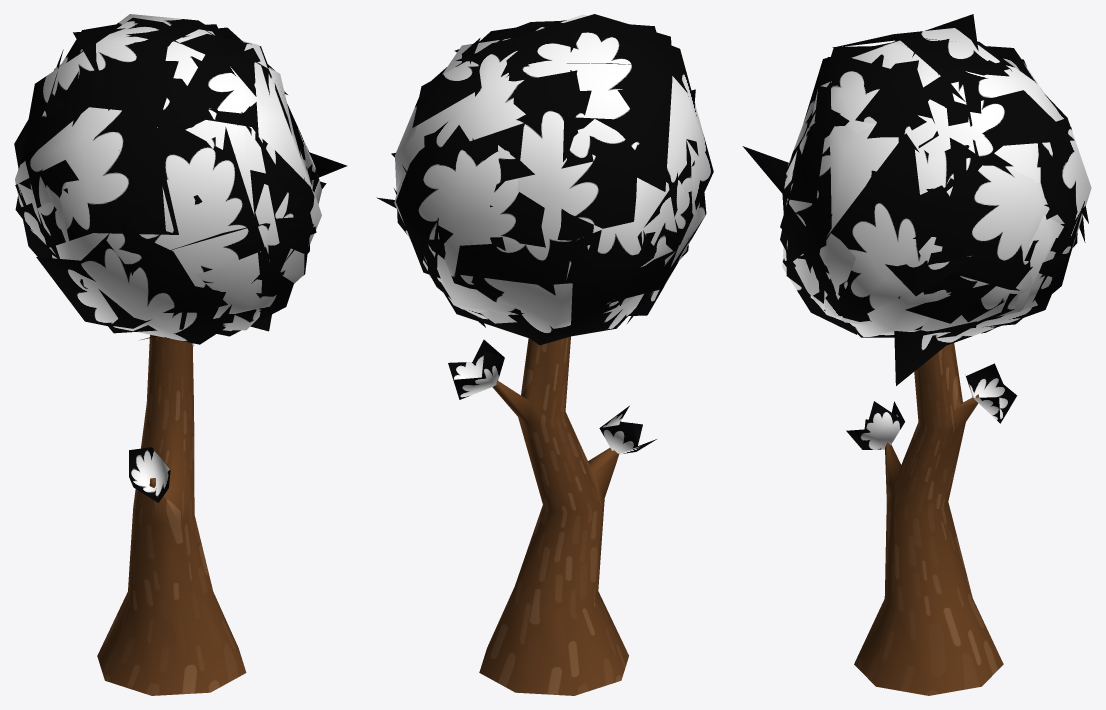
Rendered from tree_01.fbx.
3 renders of one model, left to right at view 1: azimuth 30°, elevation 25°; view 2: azimuth 150°, elevation 25°; view 3: azimuth 270°, elevation 25°, orthographic. The views are drawn at different scales.
Visible parts, largest first — view 1: Tree, Tree.001; view 2: Tree, Tree.001; view 3: Tree, Tree.001.
Part boxes in pixels (bbox=[...]): Tree: bbox=[14, 14, 347, 502]; Tree.001: bbox=[97, 334, 246, 695]; Tree: bbox=[376, 14, 713, 454]; Tree.001: bbox=[479, 336, 628, 695]; Tree: bbox=[742, 14, 1091, 449]; Tree.001: bbox=[854, 343, 1003, 695].
Bounding box in the file's own units: 2.51 × 5.1 × 2.6.
